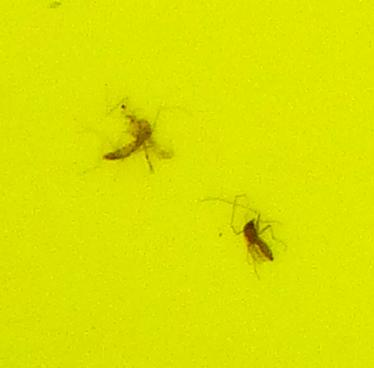Nematocera: (100, 100, 160, 166), (235, 213, 274, 268)
